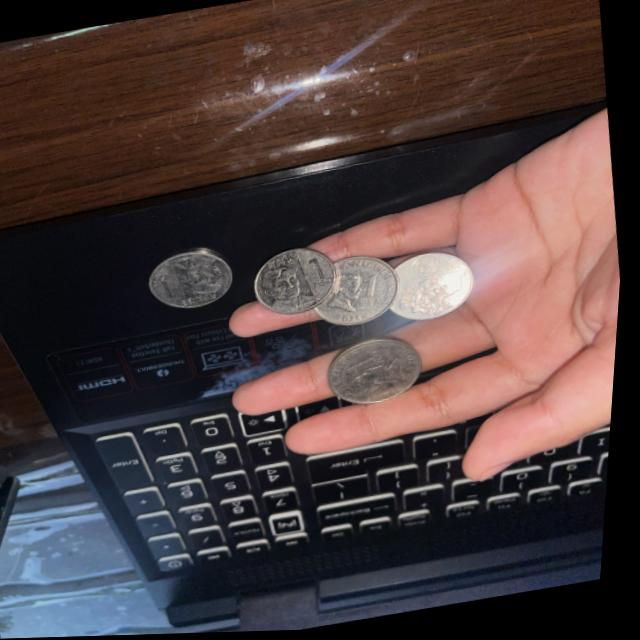1_New_Front: (155, 249, 234, 313), (261, 252, 339, 313)
1_Old_Front: (340, 341, 415, 404), (323, 266, 384, 319)
